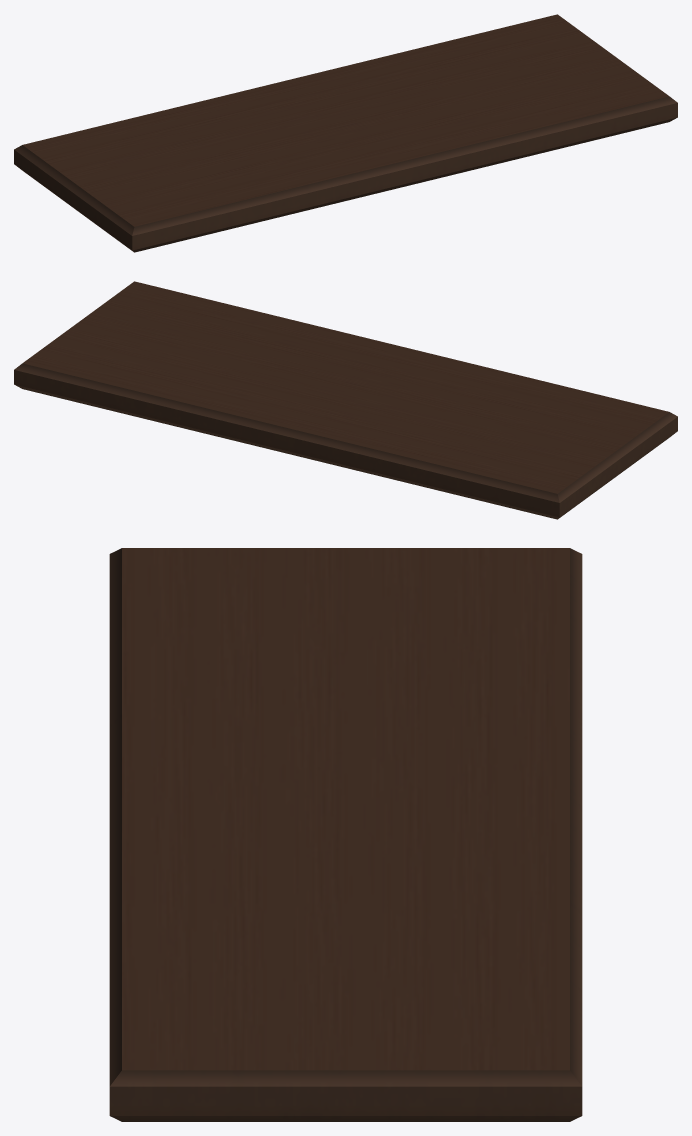
The model's file is Wall_Shelf_B.FBX.
3 renders of one model, top to bottom at view 1: azimuth 30°, elevation 25°; view 2: azimuth 150°, elevation 25°; view 3: azimuth 270°, elevation 25°, orthographic. The views are drawn at different scales.
Visible parts, largest first — view 1: Shelf; view 2: Shelf; view 3: Shelf.
Part boxes in pixels (bbox=[...]): Shelf: bbox=[14, 14, 677, 252]; Shelf: bbox=[14, 281, 677, 519]; Shelf: bbox=[109, 548, 582, 1121].
Bounding box in the file's own units: 200 × 9 × 75.
